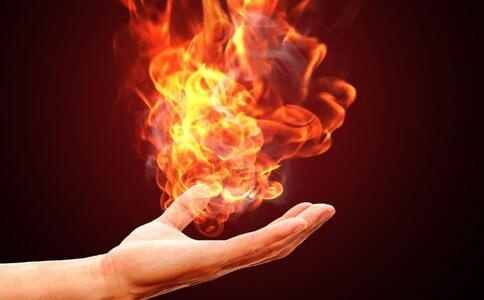fire: (123, 0, 341, 222)
